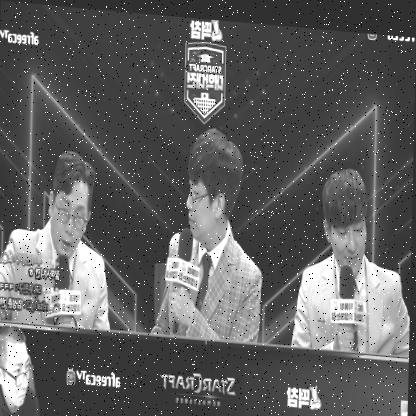streamer: (0, 323, 40, 416)
